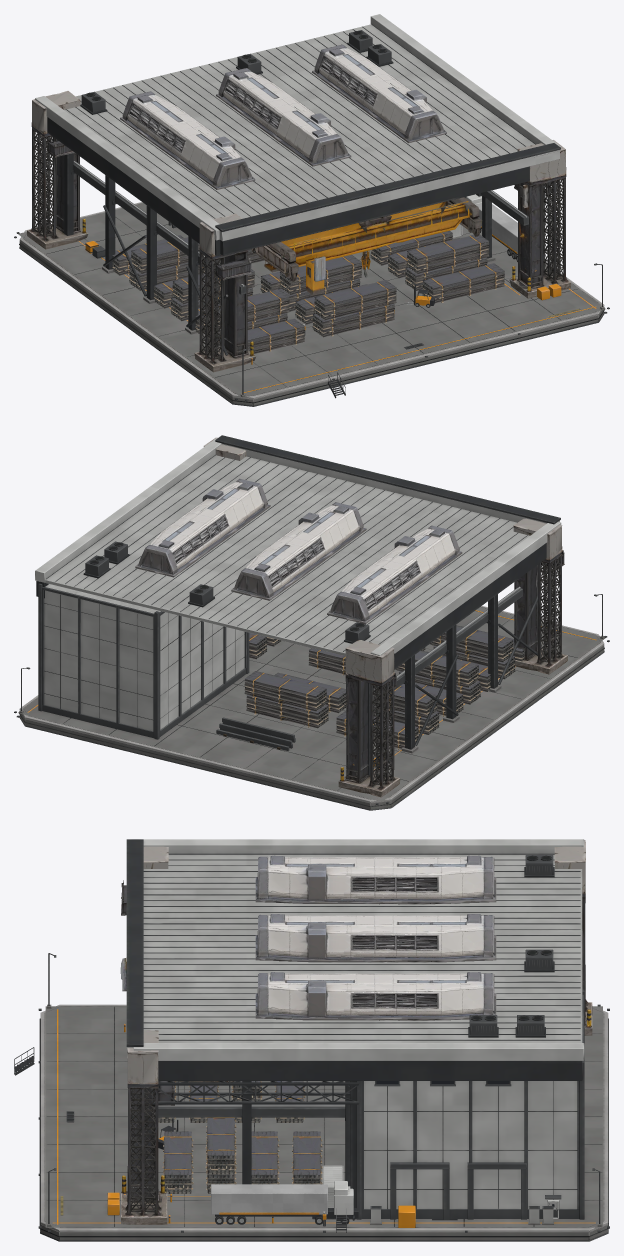
File: steel_depot.glb
The picture shows the model from 3 angles, top to bottom: view 1: azimuth 30°, elevation 25°; view 2: azimuth 150°, elevation 25°; view 3: azimuth 270°, elevation 25°; orthographic projection. The views are drawn at different scales.
Parts seen in each view (by area): view 1: hull, parts_colony-beamStack, parts_colony-portalColumn, parts_colony-roofMonitor, parts_colony-overheadCrane, parts_yard-truck; view 2: hull, parts_colony-roofMonitor, parts_colony-portalColumn, parts_colony-beamStack; view 3: hull, parts_colony-roofMonitor, parts_colony-portalColumn, parts_colony-beamStack, parts_yard-truck, parts_container.
Part boxes in pixels (x1,y1,x2,y2): hull: [14, 14, 609, 406]; parts_colony-beamStack: [112, 230, 504, 354]; parts_colony-portalColumn: [27, 91, 570, 372]; parts_colony-roofMonitor: [120, 44, 446, 189]; parts_colony-overheadCrane: [251, 197, 482, 295]; parts_yard-truck: [466, 194, 517, 261]; hull: [14, 435, 609, 810]; parts_colony-roofMonitor: [135, 478, 462, 624]; parts_colony-portalColumn: [203, 437, 567, 797]; parts_colony-beamStack: [244, 625, 524, 749]; hull: [14, 839, 609, 1241]; parts_colony-roofMonitor: [255, 855, 496, 1020]; parts_colony-portalColumn: [121, 840, 592, 1224]; parts_colony-beamStack: [158, 1081, 322, 1193]; parts_yard-truck: [211, 1181, 358, 1224]; parts_container: [322, 1165, 343, 1207].
Size of the model in its own units: 62.68 by 26.63 by 69.28.
10 materials, 10 textured.
